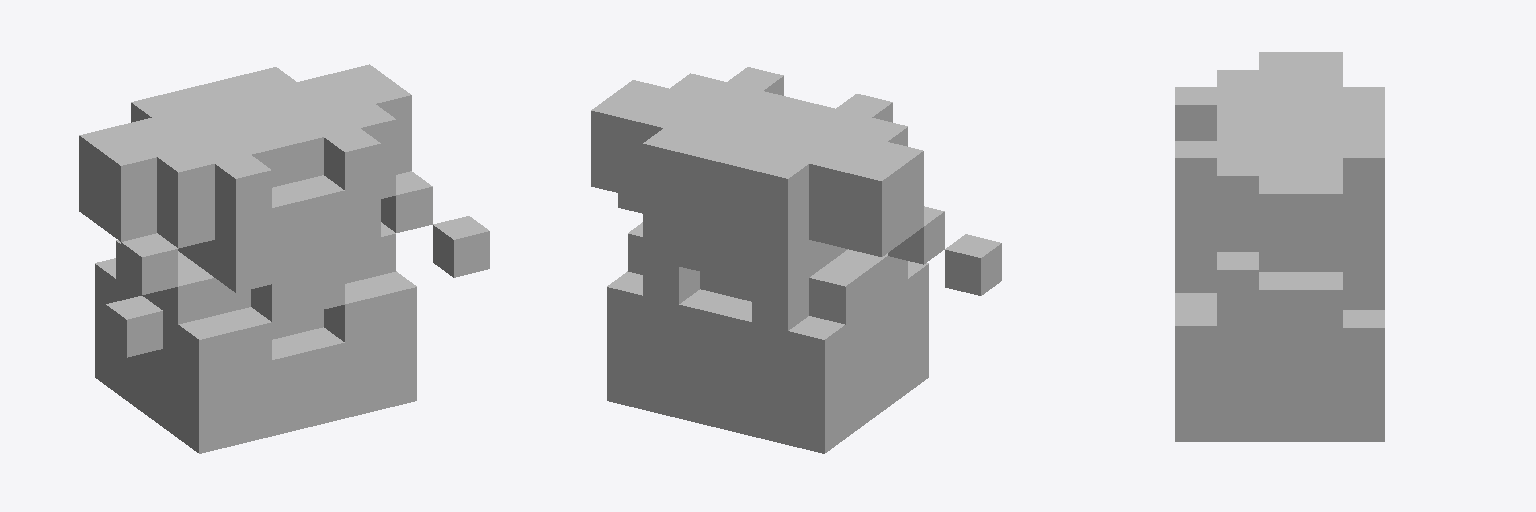
The model's file is Body 14.obj.
3 renders of one model, left to right at view 1: azimuth 30°, elevation 25°; view 2: azimuth 150°, elevation 25°; view 3: azimuth 270°, elevation 25°, orthographic.
Size of the model in its own units: 10 by 7 by 5.